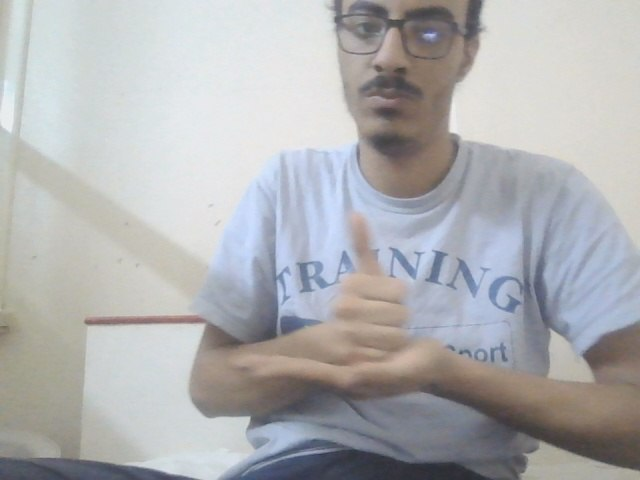Help: (227, 208, 454, 404)
